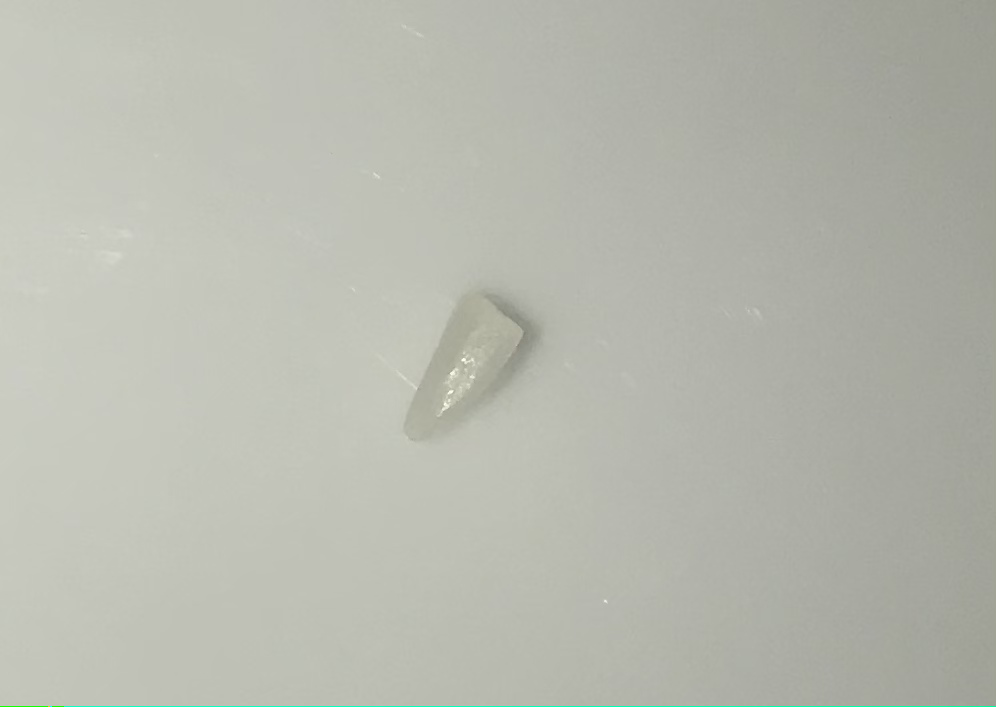Gao Tam: (389, 276, 545, 469)
